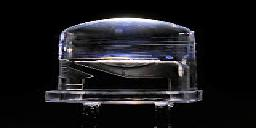LED: (45, 14, 204, 123)
